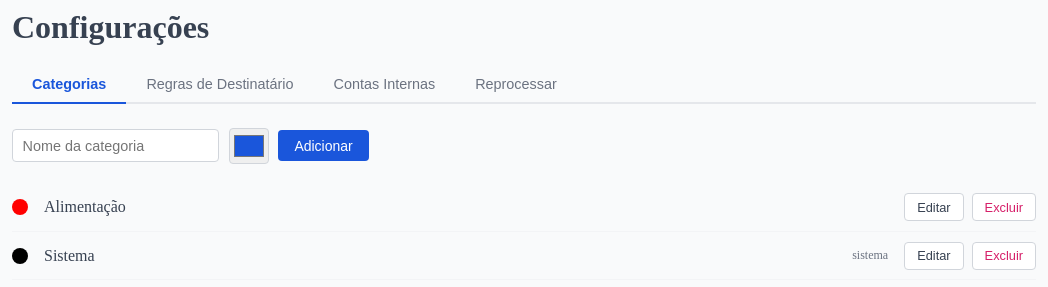
Test: SettingsPage › switches to internal accounts tab
Click the tab "Contas Internas" at (384, 85), box x1=314 y1=66 x2=455 y2=104
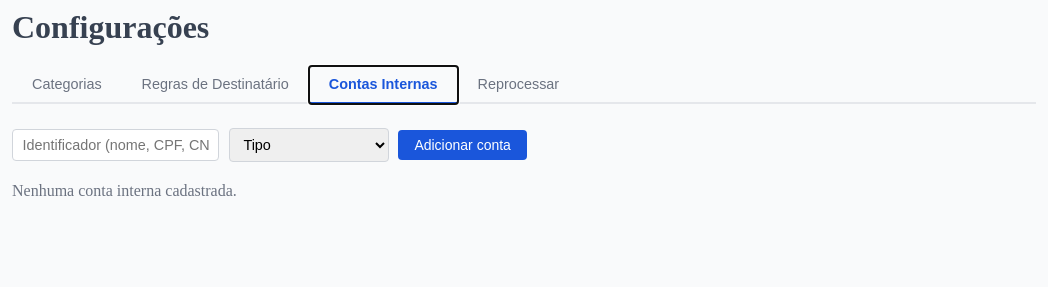
Now the field labelled "Identificador (nome, CPF, CNPJ)" is shown, box x1=12 y1=129 x2=219 y2=161
